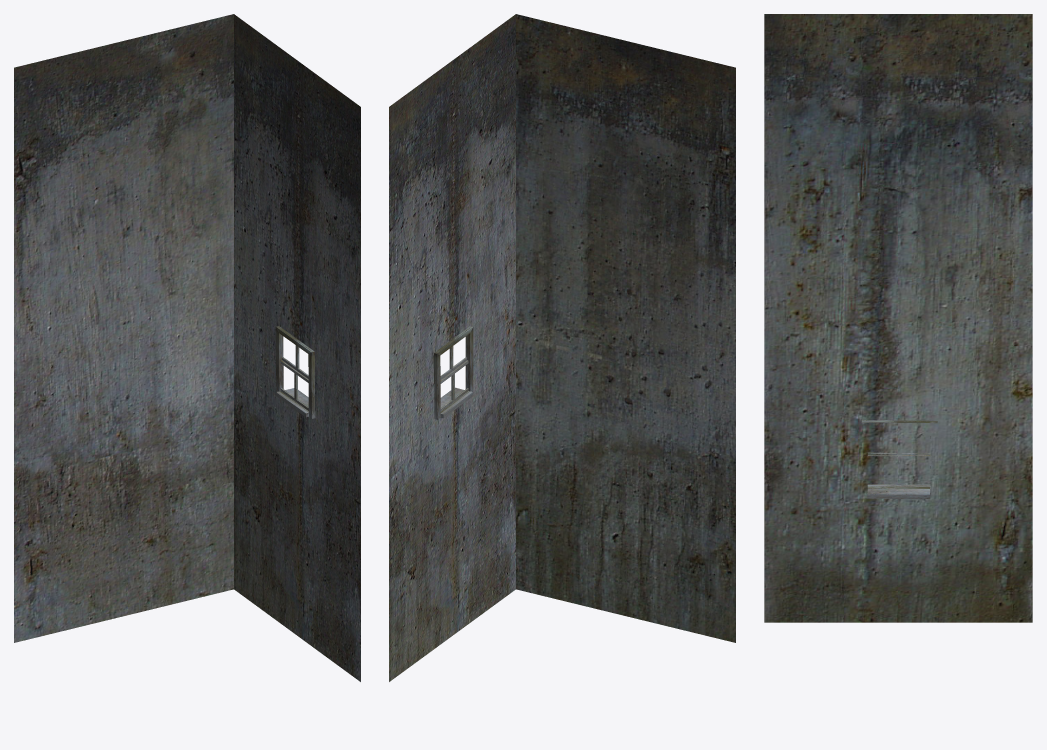
File: outerWall_window.glb
3 renders of one model, left to right at view 1: azimuth 30°, elevation 25°; view 2: azimuth 150°, elevation 25°; view 3: azimuth 270°, elevation 25°, orthographic. The views are drawn at different scales.
Parts seen in each view (by area): view 1: Mesh_0, model_0; view 2: Mesh_0, model_0; view 3: Mesh_0, model_0.
Part boxes in pixels (<box>): Mesh_0: <box>14,14,360,681</box>; model_0: <box>275,326,315,418</box>; Mesh_0: <box>389,14,735,681</box>; model_0: <box>434,326,473,419</box>; Mesh_0: <box>764,14,1032,622</box>; model_0: <box>861,420,937,499</box>.
Bounding box in the file's own units: 4.24 × 10 × 4.
1 material, 1 textured.
